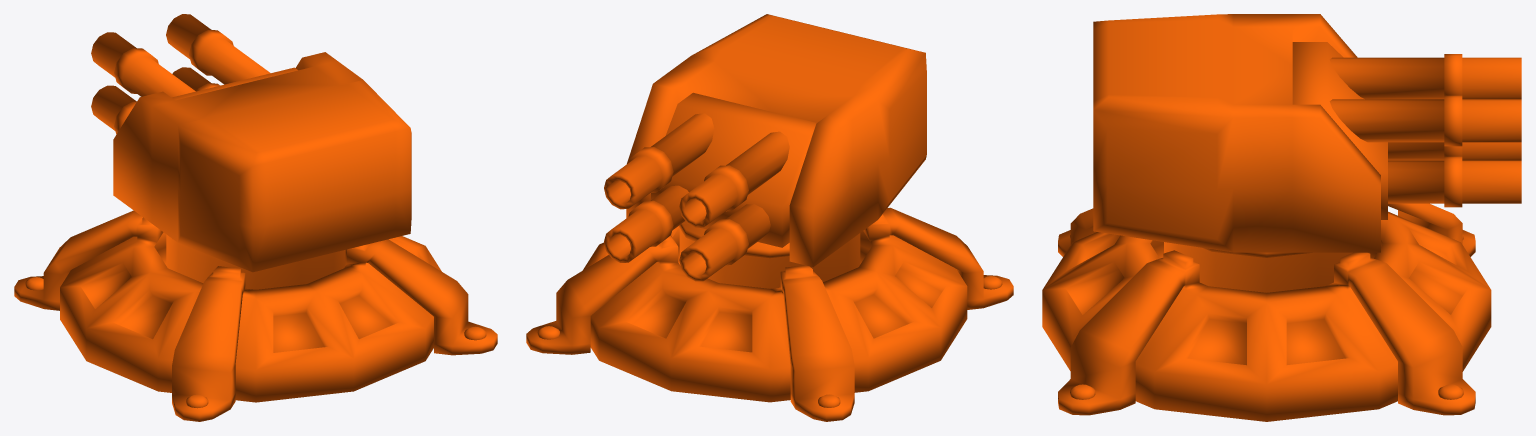
File: 1Turret_a.fbx
3 views of the same model, side by side, from view 1: azimuth 30°, elevation 25°; view 2: azimuth 150°, elevation 25°; view 3: azimuth 270°, elevation 25° (orthographic). The views are drawn at different scales.
Visible parts, largest first — view 1: 1turret_a1, 1turret_a4, 1turret_a6, 1turret_a3, 1turret_a2, 1turret_a5; view 2: 1turret_a1, 1turret_a4, 1turret_a6, 1turret_a5, 1turret_a3, 1turret_a2; view 3: 1turret_a1, 1turret_a4, 1turret_a6, 1turret_a3, 1turret_a5, 1turret_a2.
Boxes of the visible parts, x1=… form: 1turret_a1: x1=14, y1=210, x2=497, y2=421; 1turret_a4: x1=113, y1=52, x2=411, y2=272; 1turret_a6: x1=91, y1=14, x2=270, y2=134; 1turret_a3: x1=166, y1=234, x2=345, y2=289; 1turret_a2: x1=25, y1=277, x2=486, y2=408; 1turret_a5: x1=171, y1=67, x2=297, y2=100; 1turret_a1: x1=526, y1=207, x2=1013, y2=421; 1turret_a4: x1=626, y1=14, x2=926, y2=267; 1turret_a6: x1=604, y1=113, x2=789, y2=281; 1turret_a5: x1=651, y1=92, x2=816, y2=247; 1turret_a3: x1=678, y1=223, x2=860, y2=288; 1turret_a2: x1=537, y1=276, x2=1002, y2=407; 1turret_a1: x1=1042, y1=203, x2=1491, y2=421; 1turret_a4: x1=1093, y1=14, x2=1380, y2=252; 1turret_a6: x1=1329, y1=54, x2=1521, y2=207; 1turret_a3: x1=1164, y1=242, x2=1369, y2=292; 1turret_a5: x1=1292, y1=42, x2=1387, y2=219; 1turret_a2: x1=1070, y1=234, x2=1463, y2=399.
Size of the model in its own units: 18.23 by 12.03 by 19.47.
